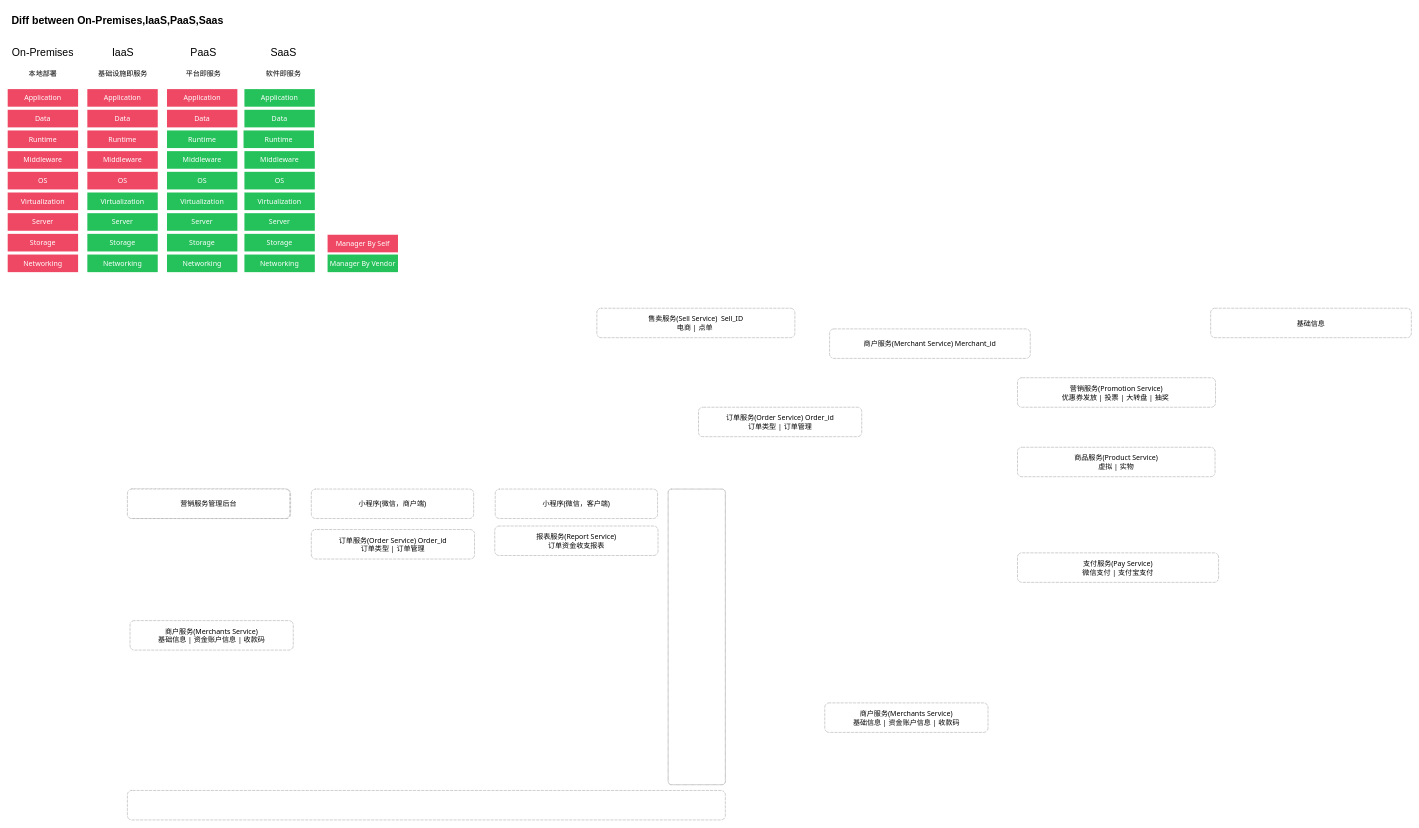
Image size: 1419x828. Some labels were removed from this diagram. The centre of each missing label's shape, as x and y in pixels:
云服务设施 网络 | 存储 | 计算: the point at 426,805
统一用户中心 (User Center) 用户 | 角色 应用 | 组织: the point at 696,637
